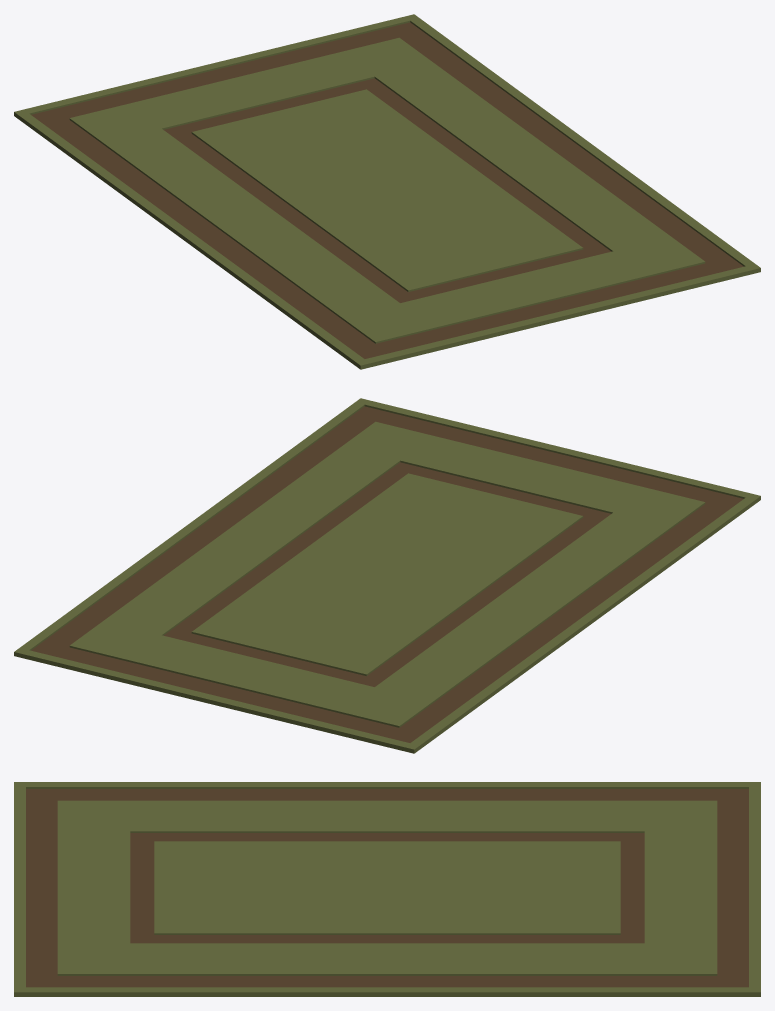
The model's file is Itr_Carpet2_03.FBX.
3 renders of one model, top to bottom at view 1: azimuth 30°, elevation 25°; view 2: azimuth 150°, elevation 25°; view 3: azimuth 270°, elevation 25°, orthographic. The views are drawn at different scales.
Visible parts, largest first — view 1: Itr_Carpet2_03; view 2: Itr_Carpet2_03; view 3: Itr_Carpet2_03.
Part boxes in pixels (x1,y1,x2,y2): Itr_Carpet2_03: (14,14,760,369); Itr_Carpet2_03: (14,398,760,753); Itr_Carpet2_03: (14,782,760,996).
Size of the model in its own units: 105 by 1.05 by 158.
